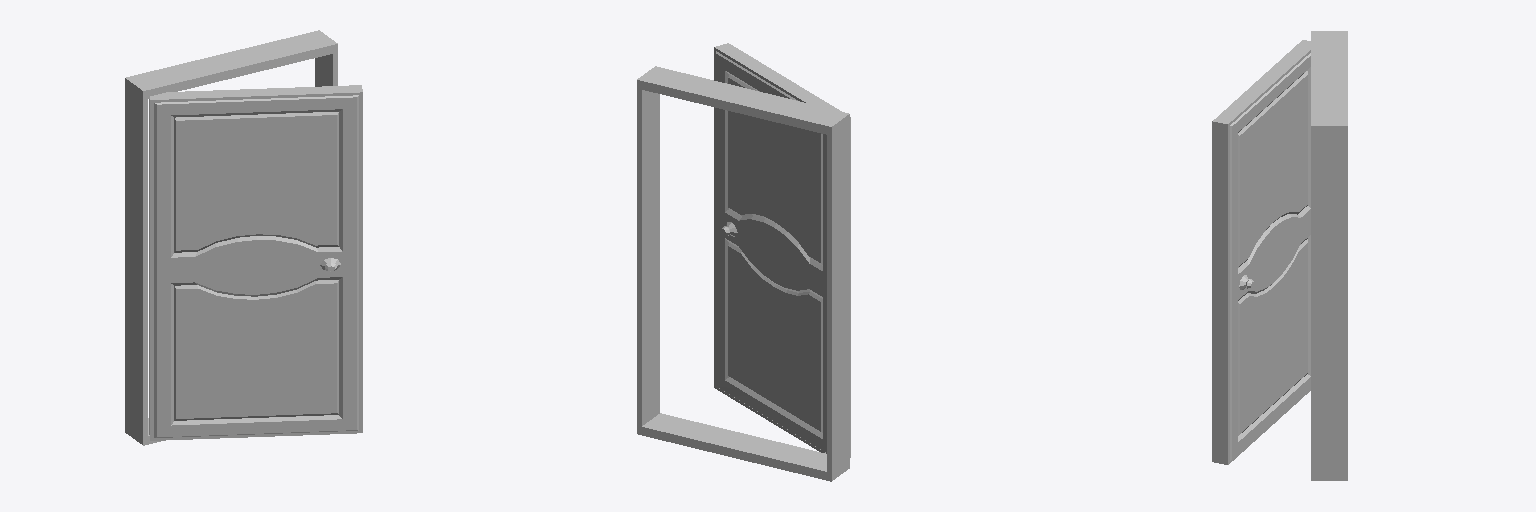
The model's file is drzwiok_000027.obj.
3 views of the same model, side by side, from view 1: azimuth 30°, elevation 25°; view 2: azimuth 150°, elevation 25°; view 3: azimuth 270°, elevation 25° (orthographic).
Visible parts, largest first — view 1: Door_4.001_Cube.001, Kostka; view 2: Door_4.001_Cube.001, Kostka; view 3: Door_4.001_Cube.001, Kostka.
Part boxes in pixels (x1,y1,x2,y2): Door_4.001_Cube.001: (149,85,362,440); Kostka: (125,30,337,445); Door_4.001_Cube.001: (714,43,850,457); Kostka: (637,66,849,481); Door_4.001_Cube.001: (1212,40,1310,464); Kostka: (1311,31,1347,480).
Bounding box in the file's own units: 0.7416 × 1.29 × 0.446.